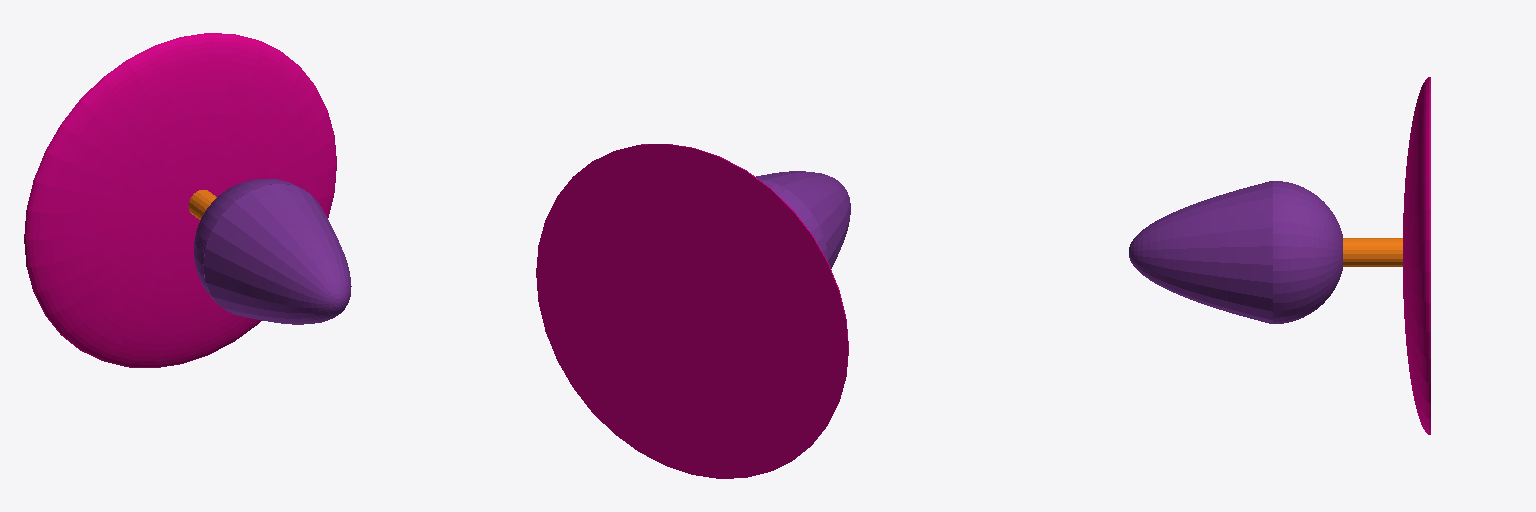
Rendered from top lamp.obj.
3 views of the same model, side by side, from view 1: azimuth 30°, elevation 25°; view 2: azimuth 150°, elevation 25°; view 3: azimuth 270°, elevation 25° (orthographic).
Parts seen in each view (by area): view 1: obj_0; view 2: obj_0; view 3: obj_0.
Boxes of the visible parts, x1=… form: obj_0: x1=24, y1=33, x2=351, y2=367; obj_0: x1=536, y1=144, x2=850, y2=478; obj_0: x1=1129, y1=77, x2=1430, y2=434.
Bounding box in the file's own units: 50 × 50 × 42.